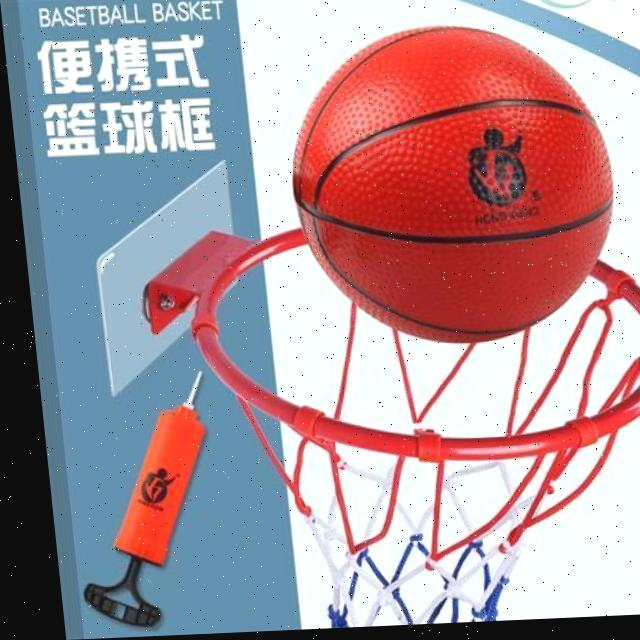Basketball: (278, 18, 633, 349)
